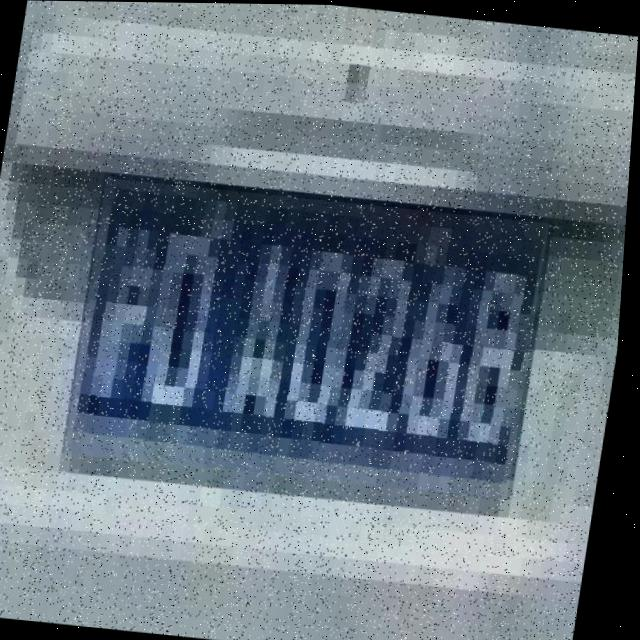LicensePlate: (68, 177, 554, 498)
